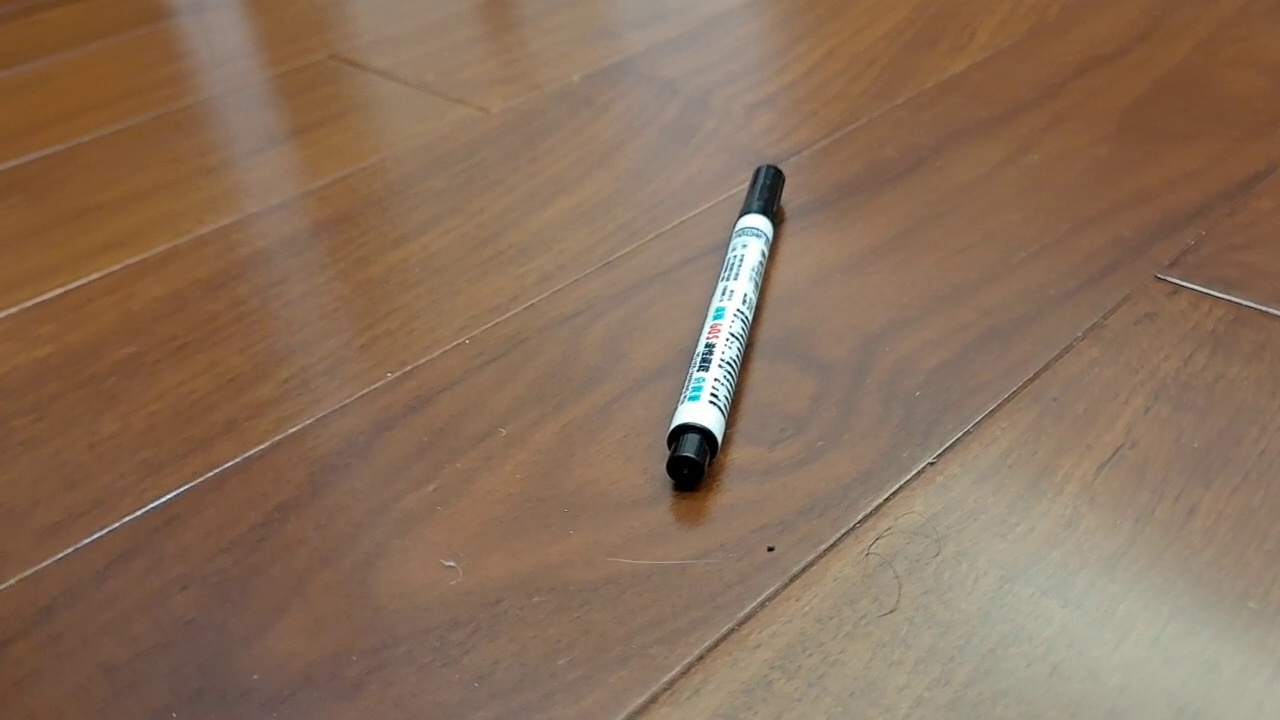pen: (665, 163, 786, 492)
